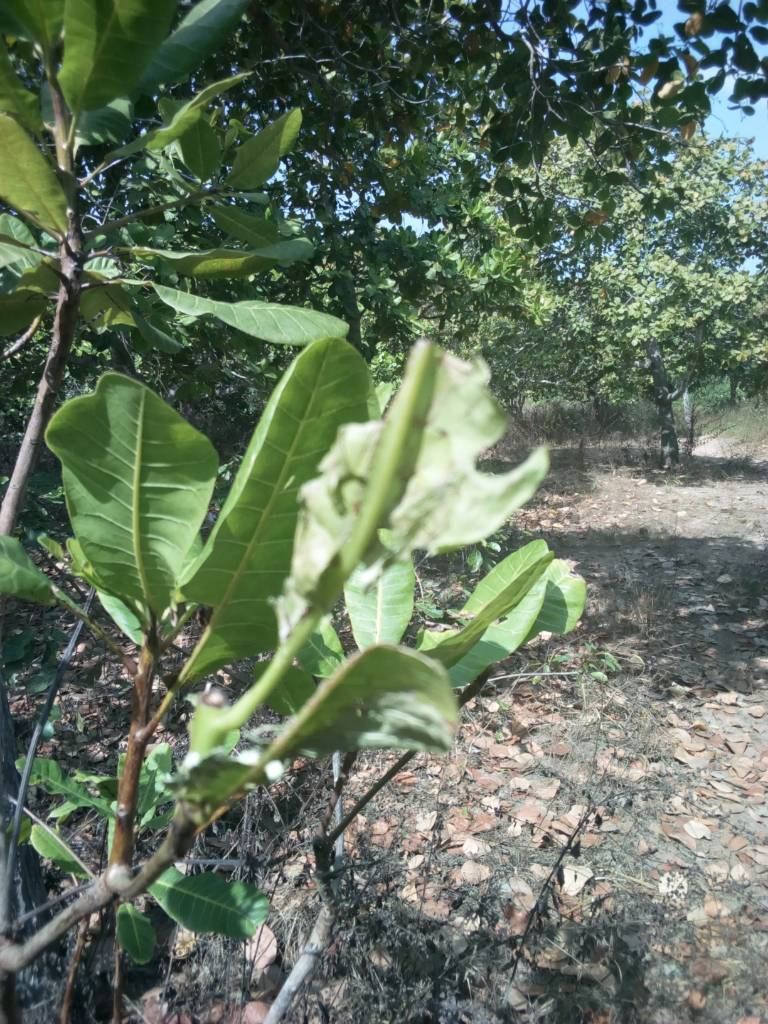Anoplonemis curvipes: (250, 353, 522, 739)
